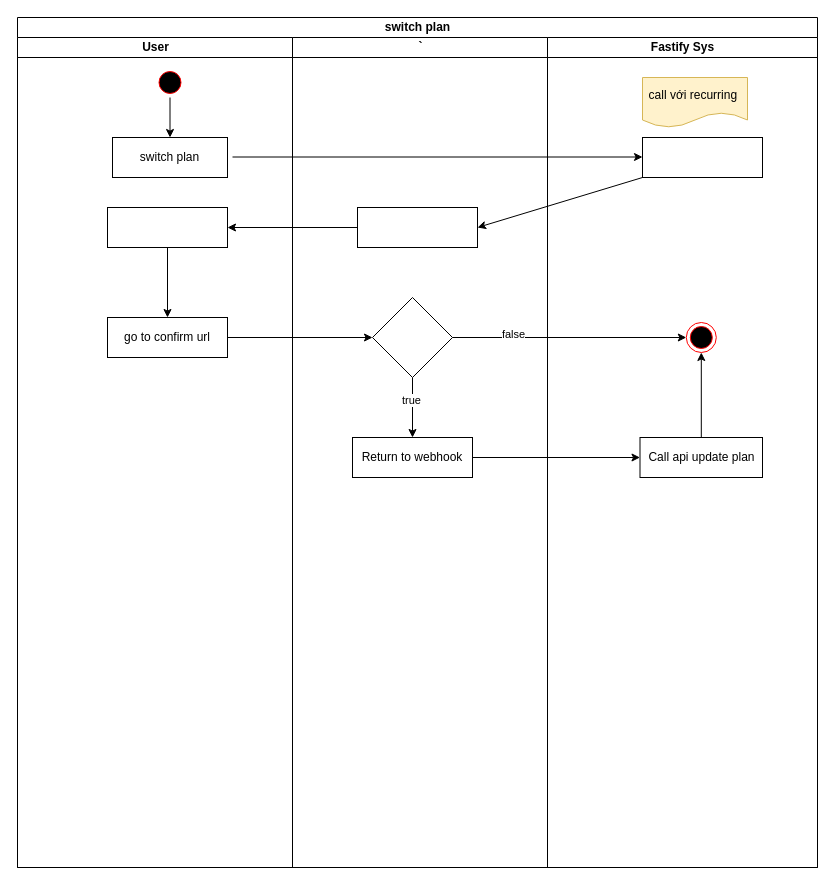
This 835x885 diagram has some shape labels left out. The centre of each missing label's shape, as x and y in pixels:
approved charge: [412,337]
call api create subcription shopify: [417,227]
call api create subscription: [702,157]
Return confirm url: [167,227]
